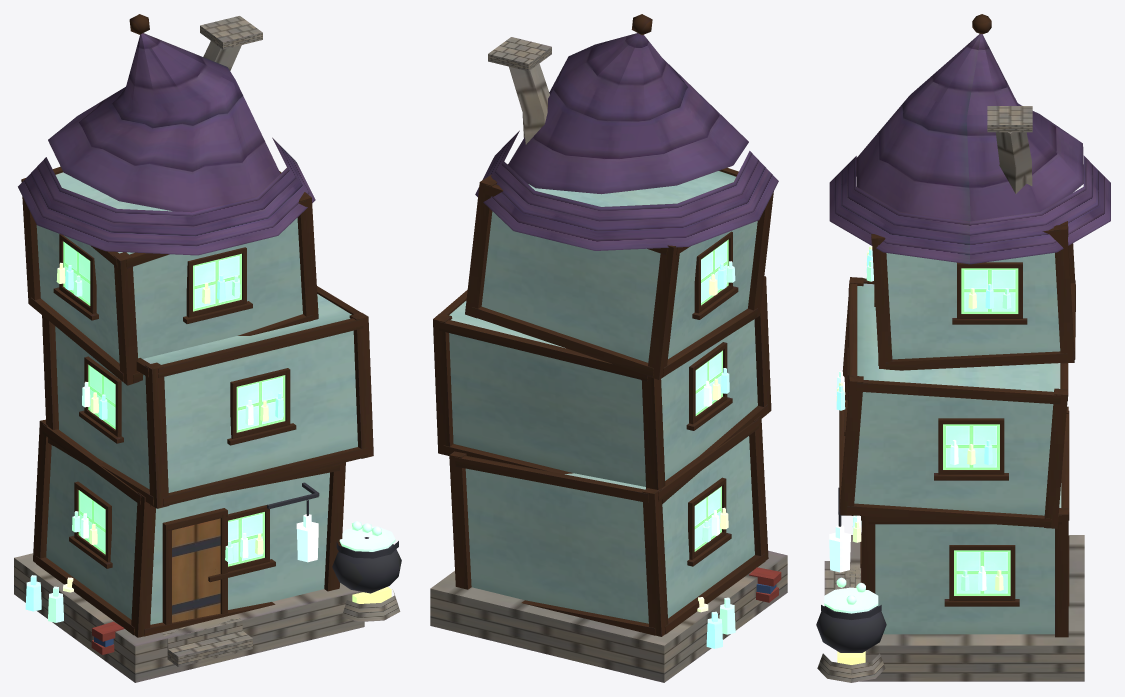
Rendered from alchemy.glb.
3 views of the same model, side by side, from view 1: azimuth 30°, elevation 25°; view 2: azimuth 150°, elevation 25°; view 3: azimuth 270°, elevation 25° (orthographic). The views are drawn at different scales.
Visible parts, largest first — view 1: alchemy; view 2: alchemy; view 3: alchemy.
Part boxes in pixels (bbox=[...]): alchemy: bbox=[14, 14, 401, 682]; alchemy: bbox=[430, 14, 787, 682]; alchemy: bbox=[816, 14, 1110, 682].
Size of the model in its own units: 6 by 11.49 by 5.18.
4 materials, 4 textured.
